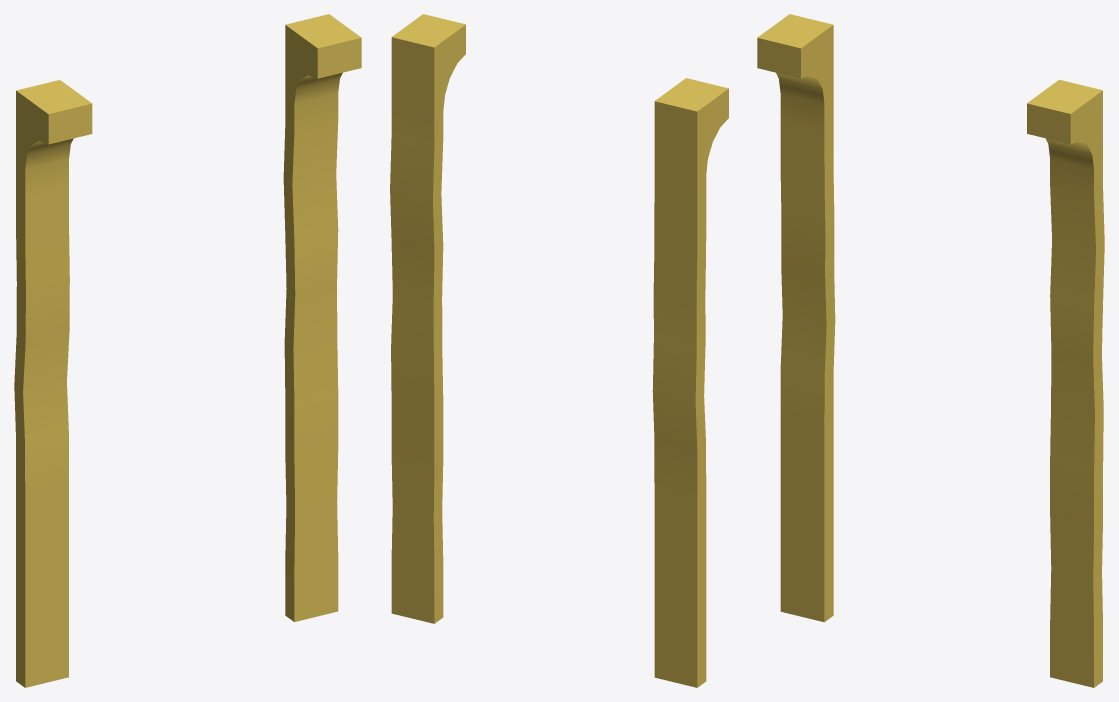
The model's file is 木板正支架架.fbx.
The picture shows the model from 3 angles, left to right: view 1: azimuth 30°, elevation 25°; view 2: azimuth 150°, elevation 25°; view 3: azimuth 330°, elevation 25°; orthographic projection. The views are drawn at different scales.
Parts seen in each view (by area): view 1: M.wood.3; view 2: M.wood.3; view 3: M.wood.3.
Boxes of the visible parts, x1,y1,x2,y2 form: M.wood.3: (14, 14, 361, 687); M.wood.3: (390, 14, 728, 687); M.wood.3: (757, 14, 1104, 687).
Bounding box in the file's own units: 343 × 617 × 64.87.
